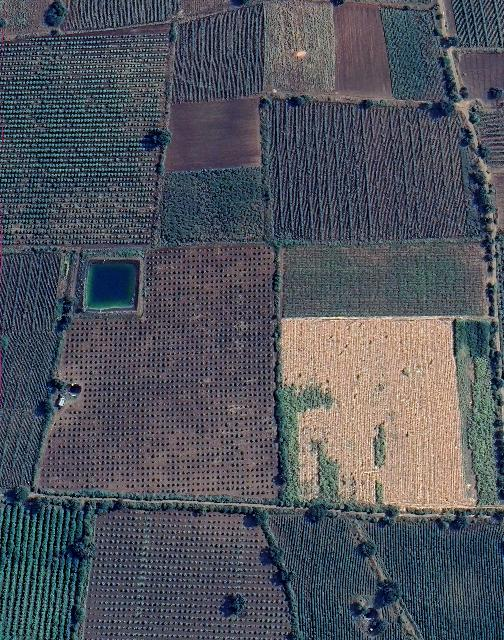DryFarms: (279, 320, 468, 504)
EmptyFarms: (166, 95, 265, 170), (336, 0, 392, 97)
Farms: (37, 244, 286, 499), (0, 25, 173, 249), (264, 510, 504, 640), (78, 504, 300, 640), (267, 99, 477, 239), (0, 248, 76, 488), (278, 241, 499, 317), (0, 499, 83, 640), (171, 1, 262, 97), (156, 169, 268, 245), (265, 0, 336, 98), (386, 3, 449, 102)
water: (82, 259, 143, 312)
